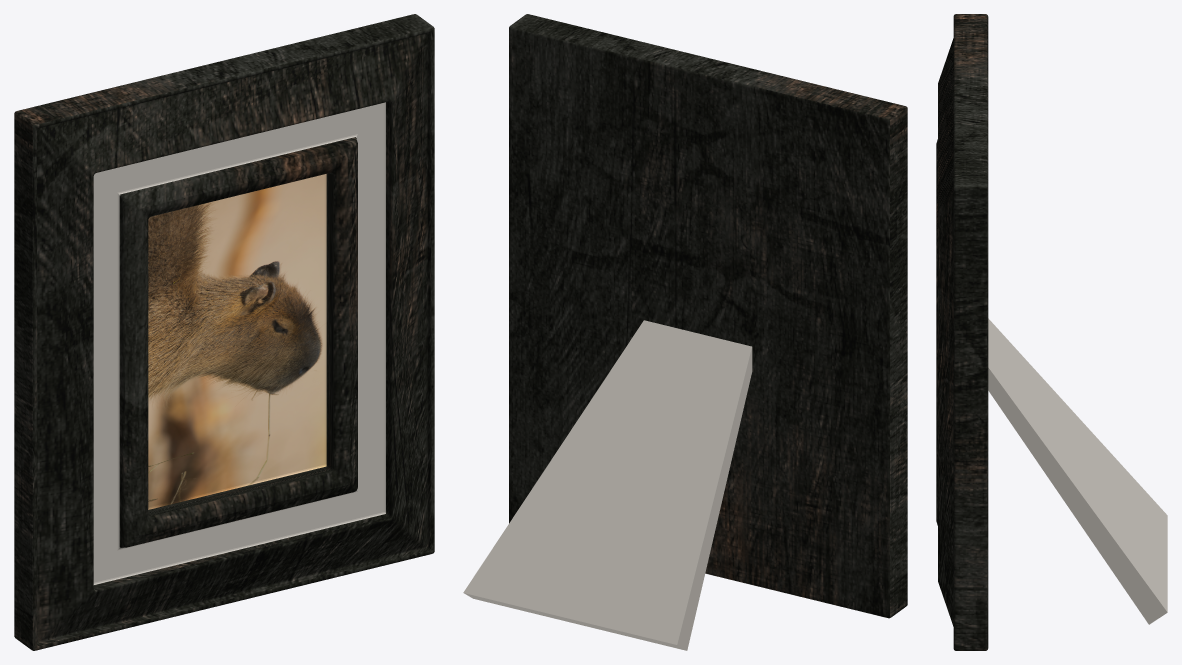
File: PZ_PICTURE1_.fbx
3 renders of one model, left to right at view 1: azimuth 30°, elevation 25°; view 2: azimuth 150°, elevation 25°; view 3: azimuth 270°, elevation 25°, orthographic. The views are drawn at different scales.
Parts seen in each view (by area): view 1: PZ_PICTURE1; view 2: PZ_PICTURE1; view 3: PZ_PICTURE1.
Boxes of the visible parts, x1=… form: PZ_PICTURE1: x1=14, y1=14, x2=434, y2=650; PZ_PICTURE1: x1=463, y1=14, x2=907, y2=650; PZ_PICTURE1: x1=936, y1=14, x2=1167, y2=650.
Size of the model in its own units: 20 by 25 by 11.27.
